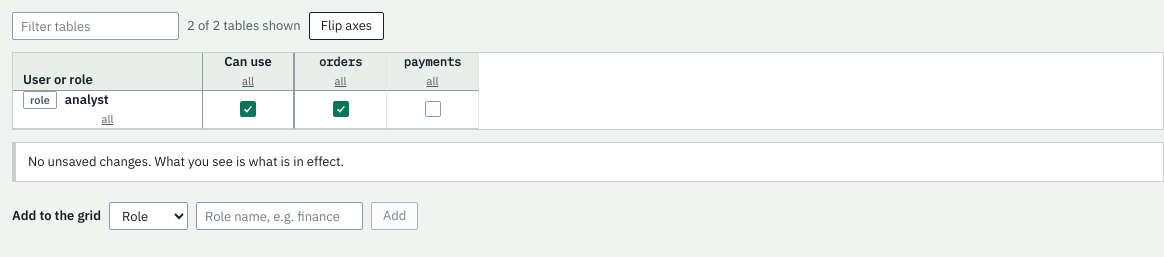
table permissions grid › stages a grant without saving it, and says so
The width and height of the screenshot is (1164, 257).
Check: the text "No unsaved changes. What you see is what is in effect." is shown, box [28,153,344,170]
Step 1. Click the checkbox named "analyst can read payments" → (432, 109), box [424,101,440,117]
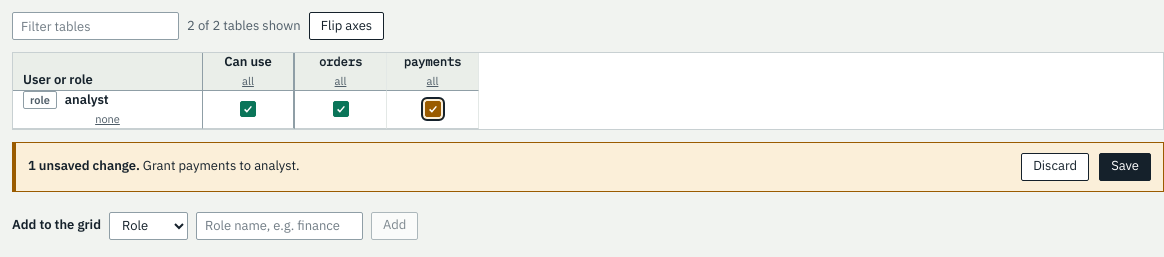
Check: the checkbox named "analyst can read payments" is checked, box [424,101,440,117]
Check: the text "1 unsaved change." is shown, box [28,157,140,174]
